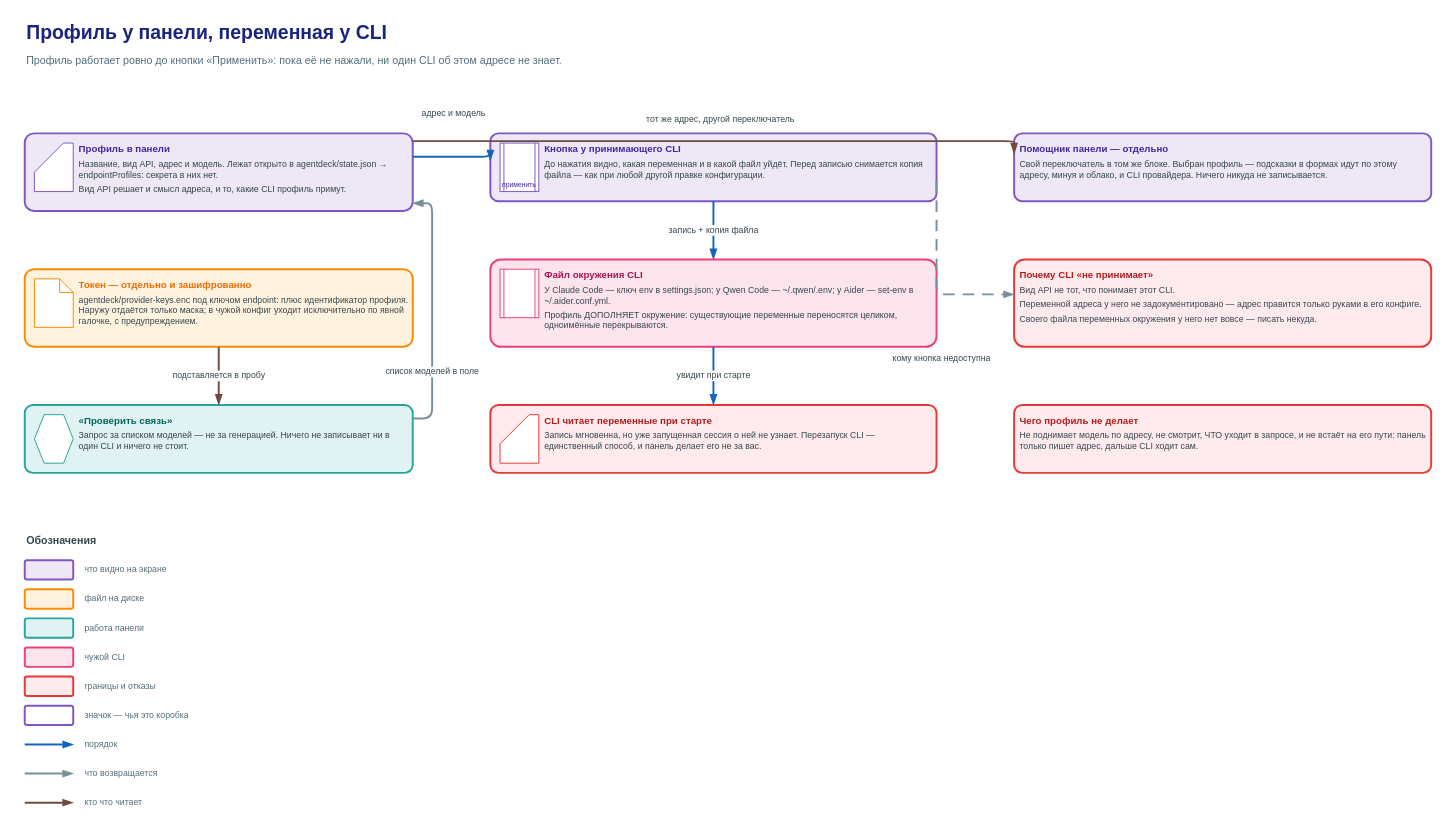
This 1448x828 diagram has some shape labels left out. The centre of each missing label's shape, as x and y in pixels:
"CLI" belongs at [519,293].
"enc" belongs at [53,302].
"проба" belongs at [53,438].
"профиль" belongs at [53,167].
"старт" belongs at [519,438].
